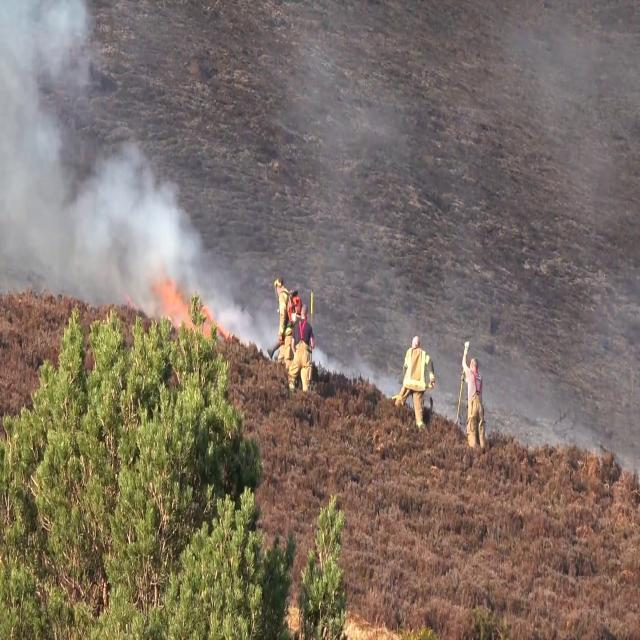Fire: (161, 270, 214, 335)
Smoke: (92, 155, 183, 309)
